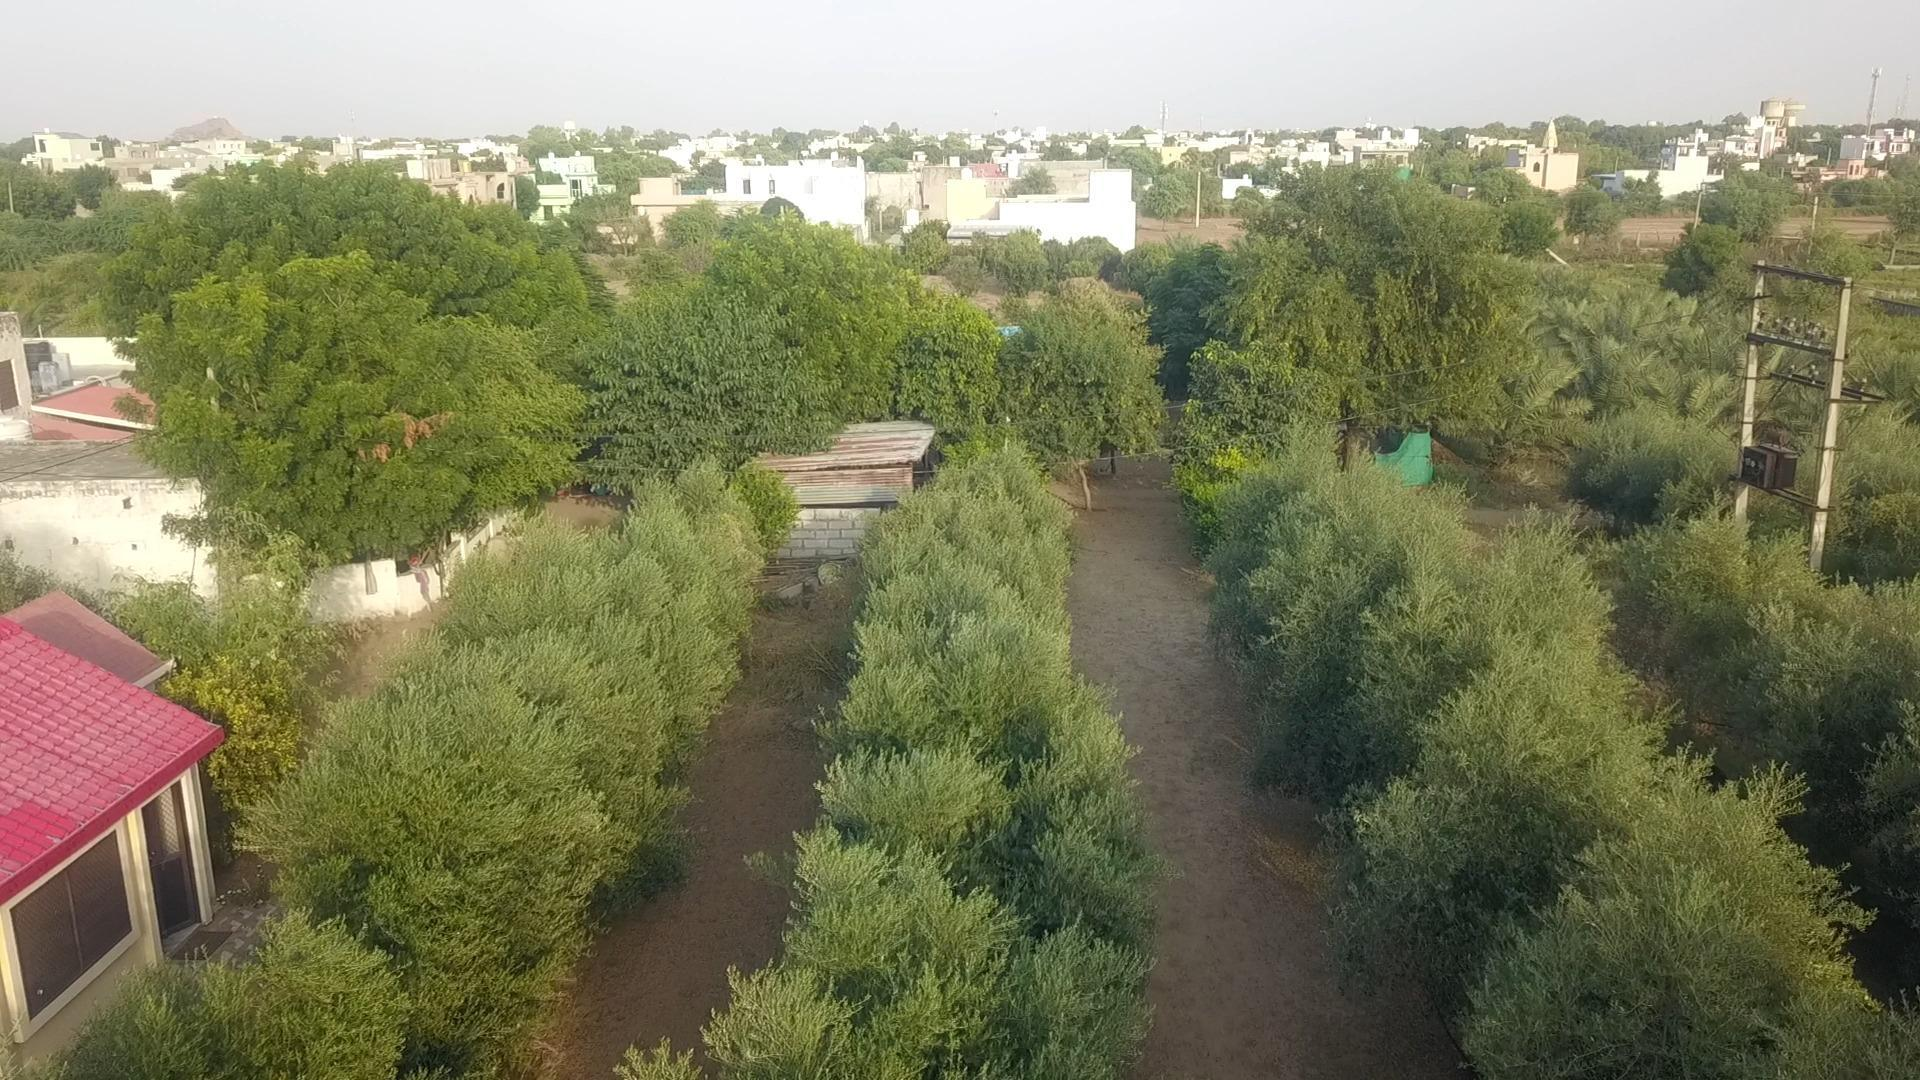canopy: (1209, 454, 1919, 1079), (198, 471, 765, 1079), (705, 447, 1156, 1079)
road: (1069, 471, 1466, 1079), (560, 657, 837, 1079)
